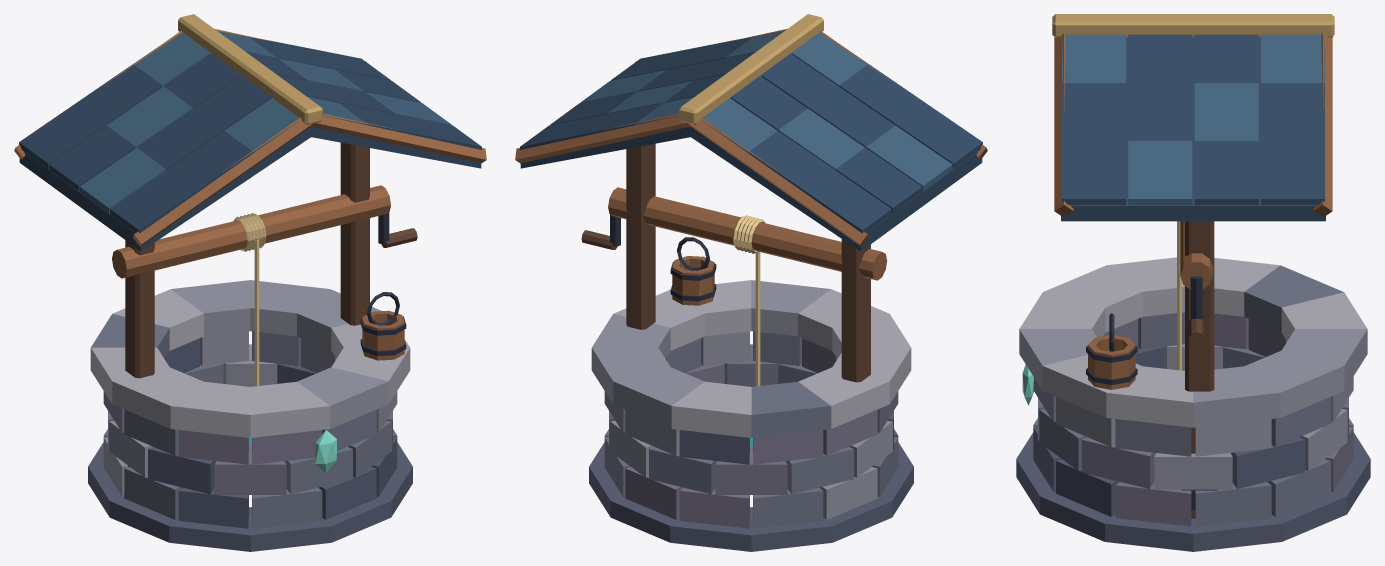
The model's file is EG_Pozo.fbx.
The picture shows the model from 3 angles, left to right: view 1: azimuth 30°, elevation 25°; view 2: azimuth 150°, elevation 25°; view 3: azimuth 270°, elevation 25°; orthographic projection. The views are drawn at different scales.
Visible parts, largest first — view 1: EG_Pozo; view 2: EG_Pozo; view 3: EG_Pozo.
Boxes of the visible parts, x1,y1,x2,y2 form: EG_Pozo: (14, 14, 486, 551); EG_Pozo: (515, 14, 987, 551); EG_Pozo: (1016, 14, 1370, 551).
Size of the model in its own units: 2.87 by 3.29 by 2.3.
Materials: 2 (2 with a texture image).
